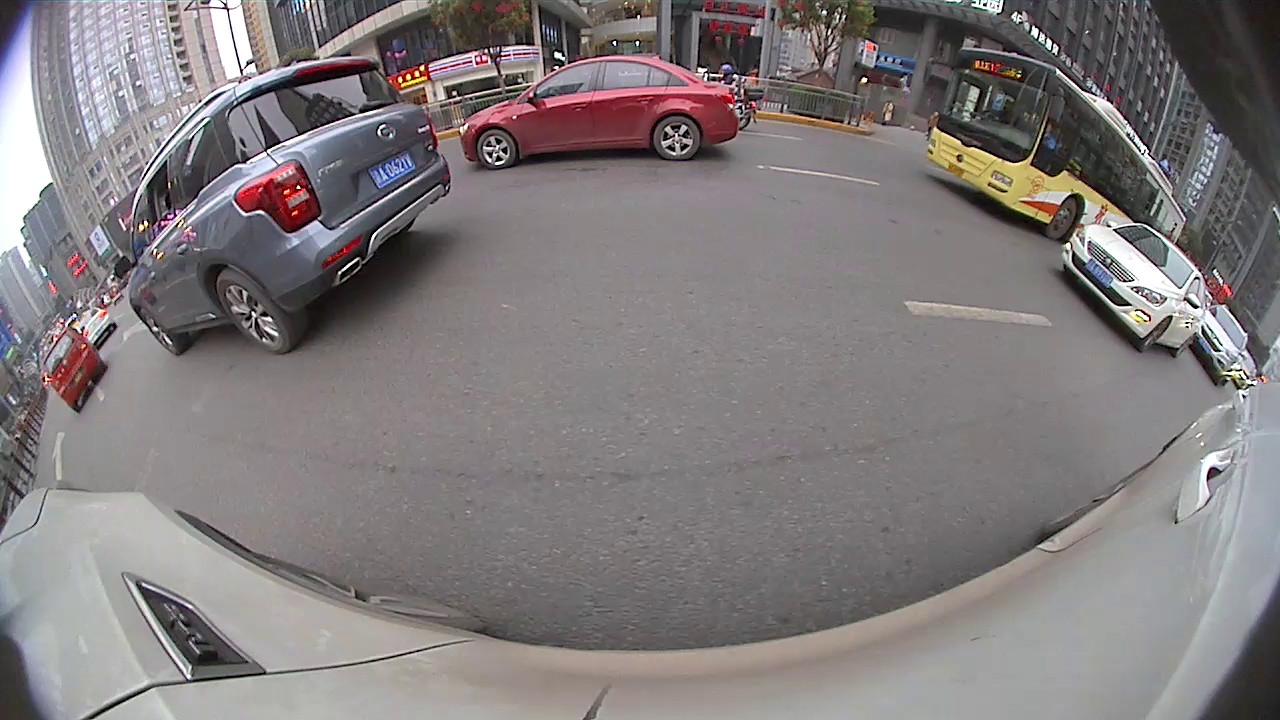bus: (923, 43, 1190, 249)
car: (113, 55, 454, 355), (456, 51, 740, 169), (1054, 220, 1203, 361), (1189, 299, 1250, 388)
front: (135, 306, 183, 357), (475, 129, 516, 167), (1047, 196, 1080, 240), (1140, 317, 1172, 351)
rear: (211, 267, 295, 355), (654, 114, 701, 164)
rider: (36, 321, 109, 413)
